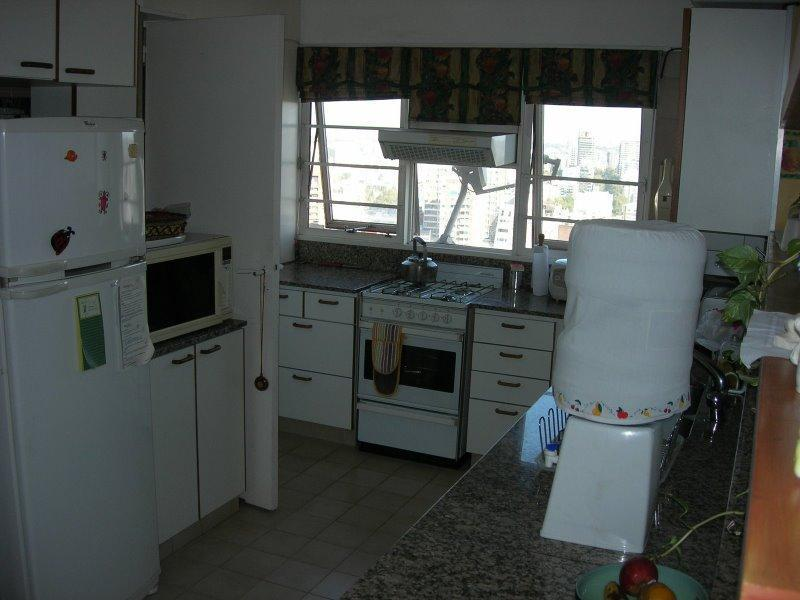Electrodomestico: (6, 118, 148, 593), (359, 288, 462, 460)
Ventana: (295, 65, 410, 249), (535, 102, 623, 255), (413, 149, 517, 256)
